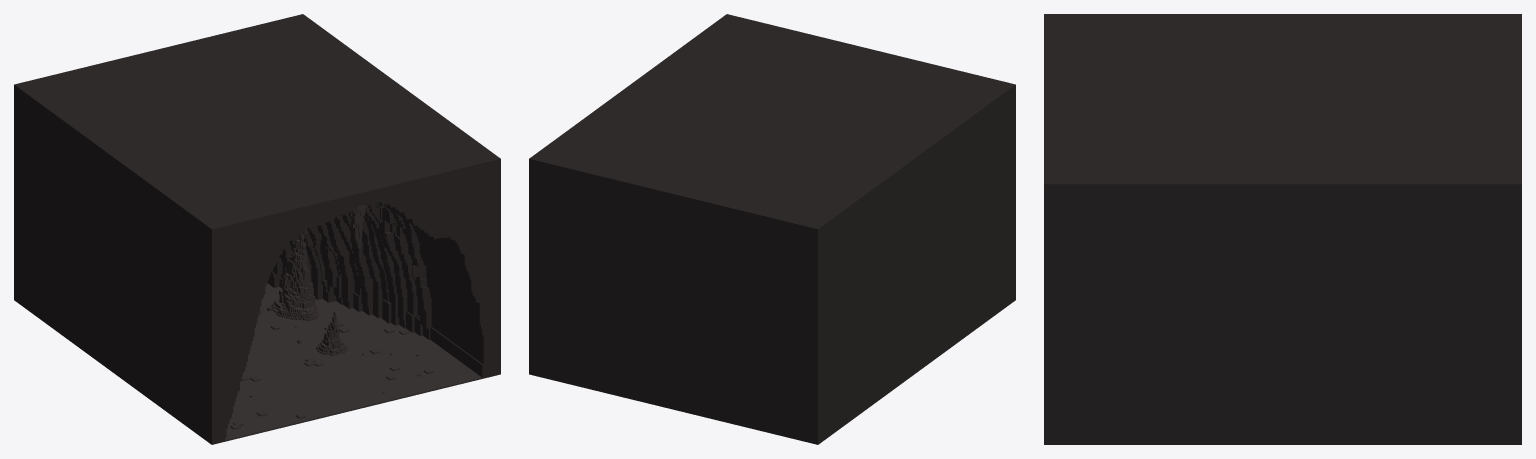
The model's file is CaveBox.fbx.
The picture shows the model from 3 angles, left to right: view 1: azimuth 30°, elevation 25°; view 2: azimuth 150°, elevation 25°; view 3: azimuth 270°, elevation 25°; orthographic projection. The views are drawn at different scales.
Visible parts, largest first — view 1: CaveBox; view 2: CaveBox; view 3: CaveBox.
Boxes of the visible parts, bbox=[...] form: CaveBox: bbox=[14, 14, 500, 444]; CaveBox: bbox=[529, 14, 1015, 444]; CaveBox: bbox=[1044, 14, 1521, 444].
Size of the model in its own units: 8640 by 10240 by 6160.
